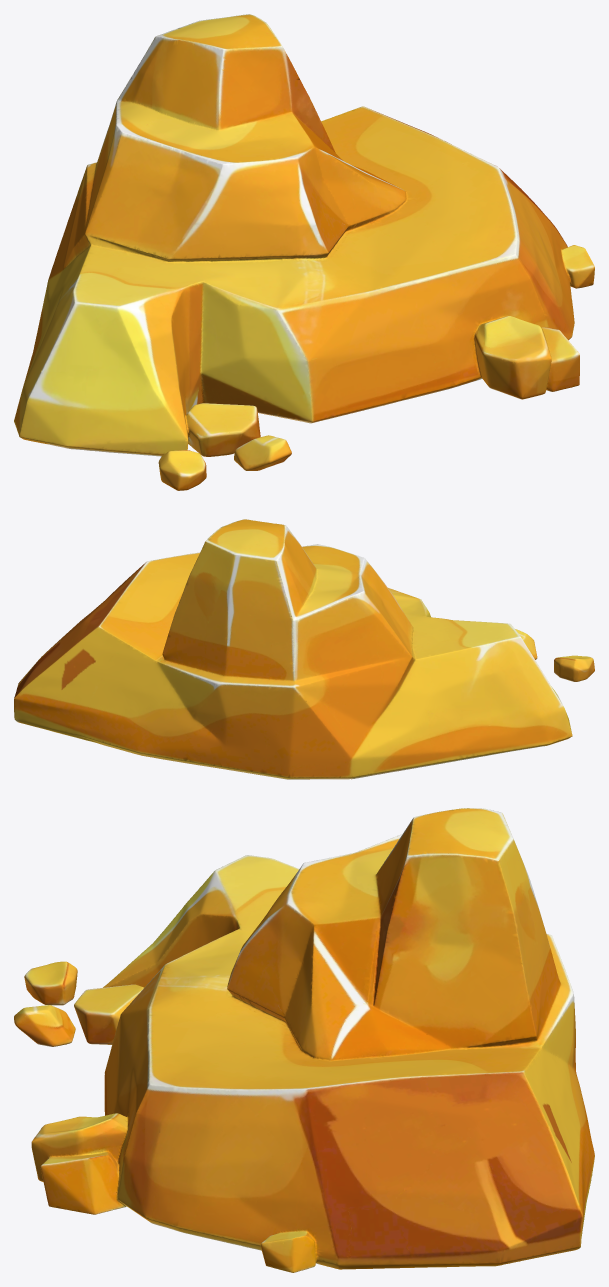
The model's file is Meshy_AI_gold_0404114946_texture.glb.
3 renders of one model, top to bottom at view 1: azimuth 30°, elevation 25°; view 2: azimuth 150°, elevation 25°; view 3: azimuth 270°, elevation 25°, orthographic. The views are drawn at different scales.
Parts seen in each view (by area): view 1: Mesh_0; view 2: Mesh_0; view 3: Mesh_0.
Boxes of the visible parts, x1,y1,x2,y2 form: Mesh_0: (14,14,594,490); Mesh_0: (14,519,594,779); Mesh_0: (14,808,594,1272).
Bounding box in the file's own units: 1.9 × 0.8101 × 1.45.
Materials: 1 (1 with a texture image).
